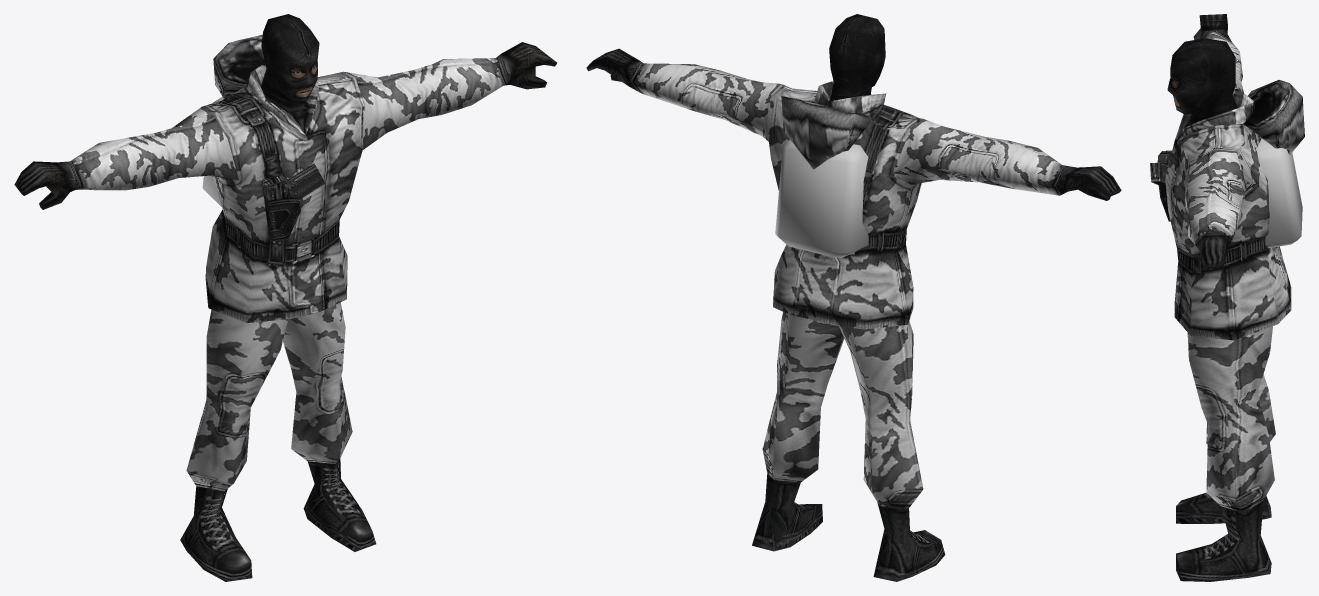
The picture shows the model from 3 angles, left to right: view 1: azimuth 30°, elevation 25°; view 2: azimuth 150°, elevation 25°; view 3: azimuth 270°, elevation 25°; orthographic projection. The views are drawn at different scales.
Visible parts, largest first — view 1: arctic; view 2: arctic, arctic_bomb; view 3: arctic, arctic_bomb.
Boxes of the visible parts, <box> form: arctic: <box>14,14,556,581</box>; arctic: <box>586,14,1121,581</box>; arctic_bomb: <box>775,140,868,257</box>; arctic: <box>1150,14,1304,581</box>; arctic_bomb: <box>1256,138,1302,248</box>.
Bounding box in the file's own units: 72.7 × 69.08 × 19.2.
